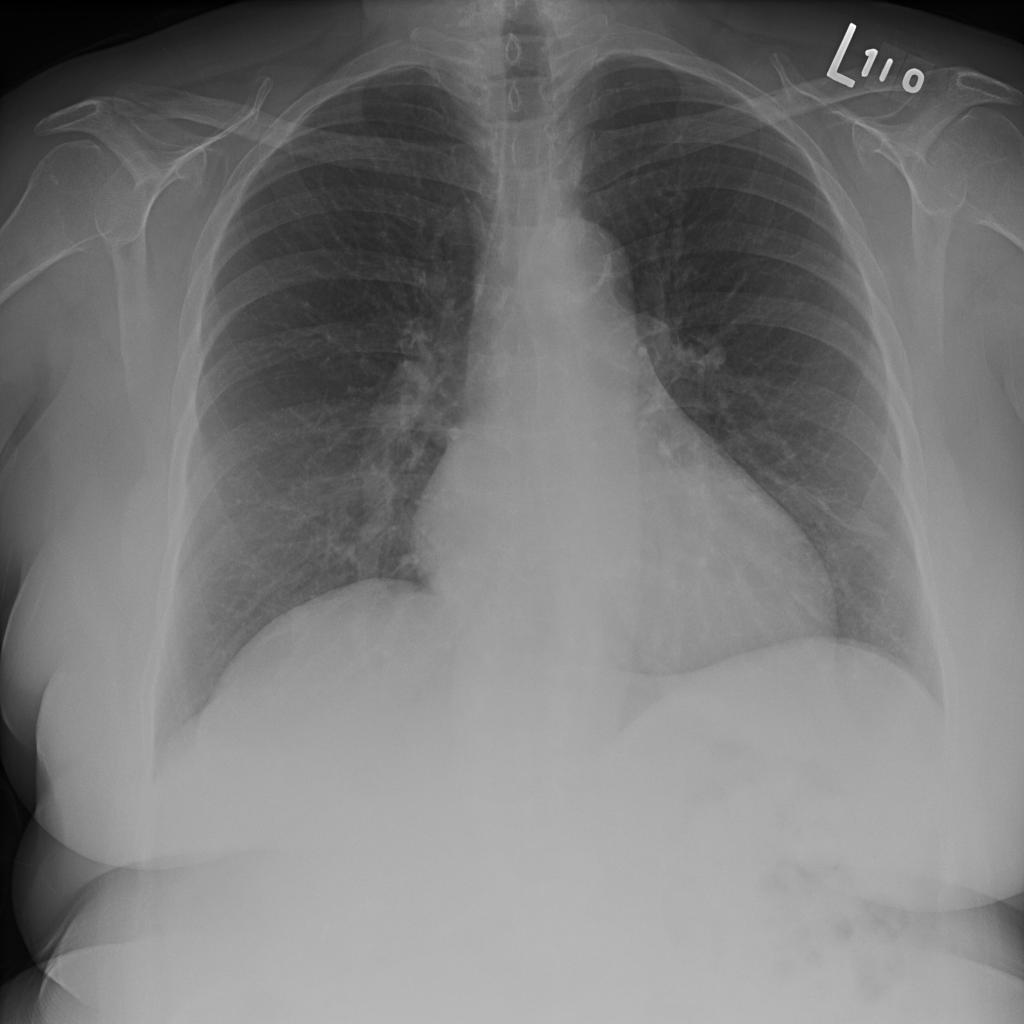Nodule: (134, 179, 180, 241)
